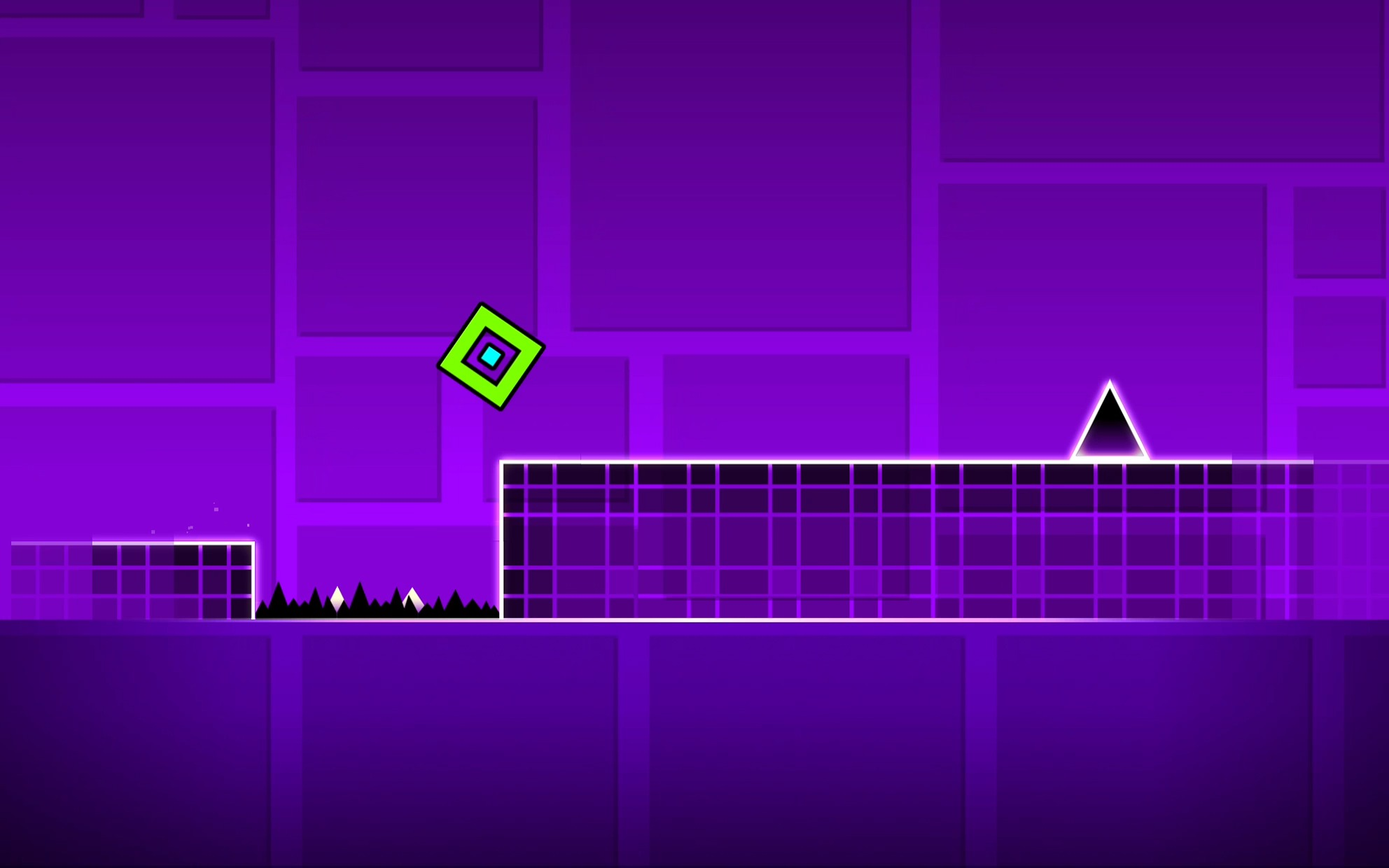Block2: (498, 457, 1388, 619), (0, 543, 252, 635)
Player: (438, 303, 544, 410)
Spike: (1072, 380, 1148, 460)
Spike3: (255, 577, 504, 627)
